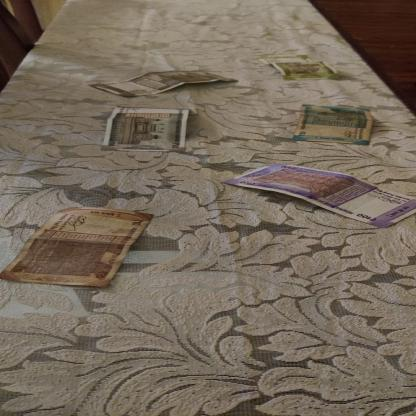New100Back: (221, 164, 415, 228)
New10Back: (0, 206, 156, 288)
New20Back: (258, 55, 340, 81)
New500Back: (87, 70, 239, 97), (100, 107, 191, 152)
New50Back: (292, 104, 373, 146)
